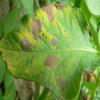Potato leaf early blight: (1, 2, 98, 99)
